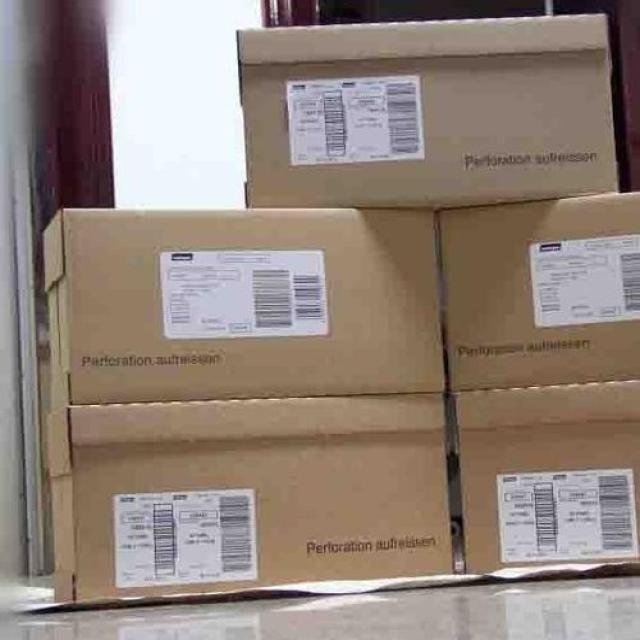box: (43, 391, 451, 606), (40, 209, 446, 407), (237, 15, 618, 210), (436, 192, 639, 393), (451, 383, 639, 574)
